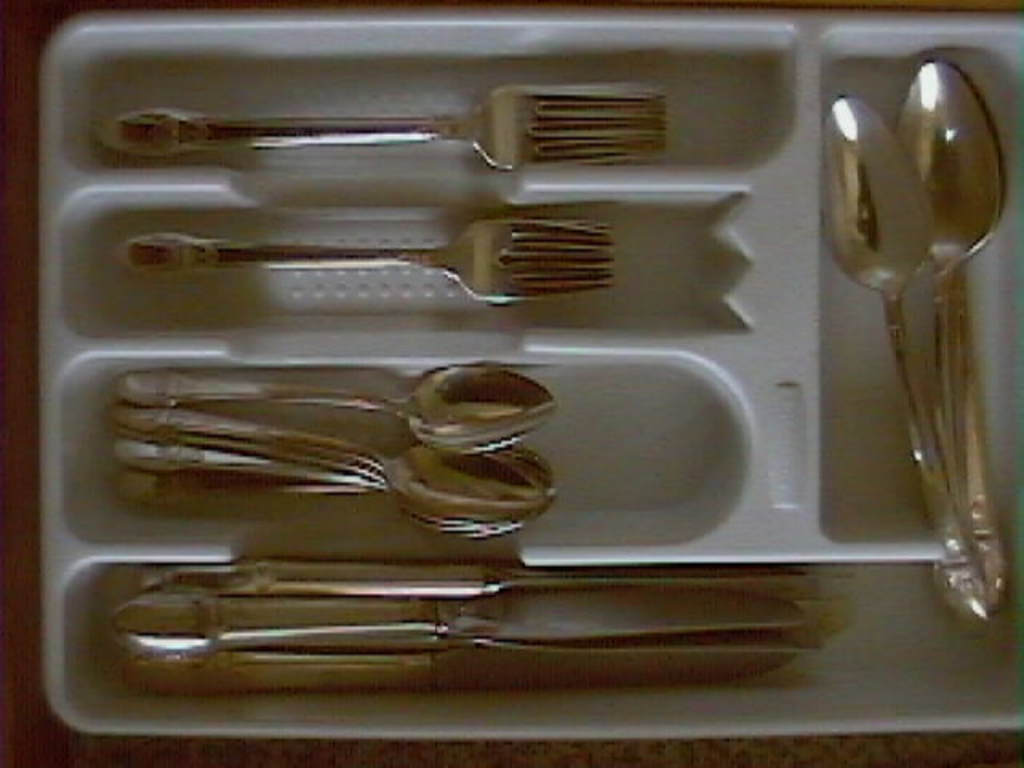fork: (96, 78, 669, 174), (112, 216, 615, 307)
